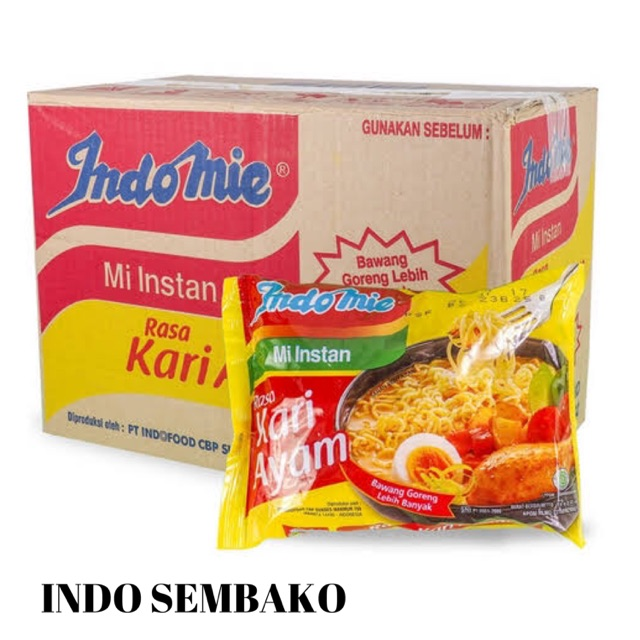indomie kari ayam: (224, 263, 591, 571)
